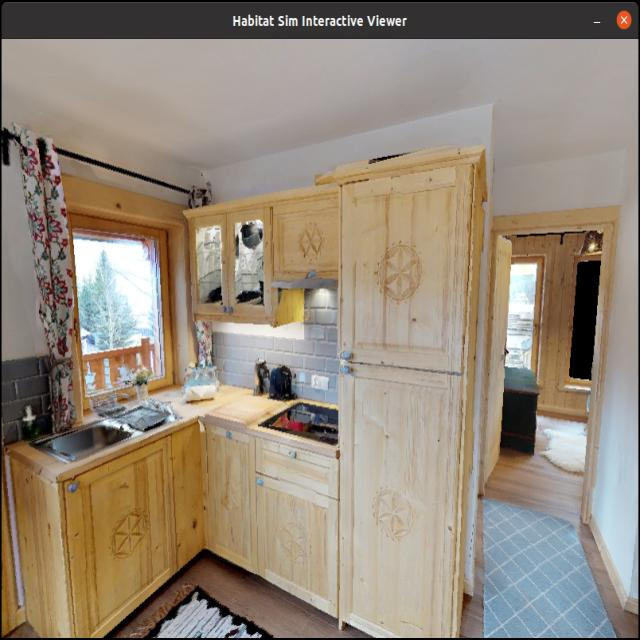door-frame: (480, 208, 615, 524)
